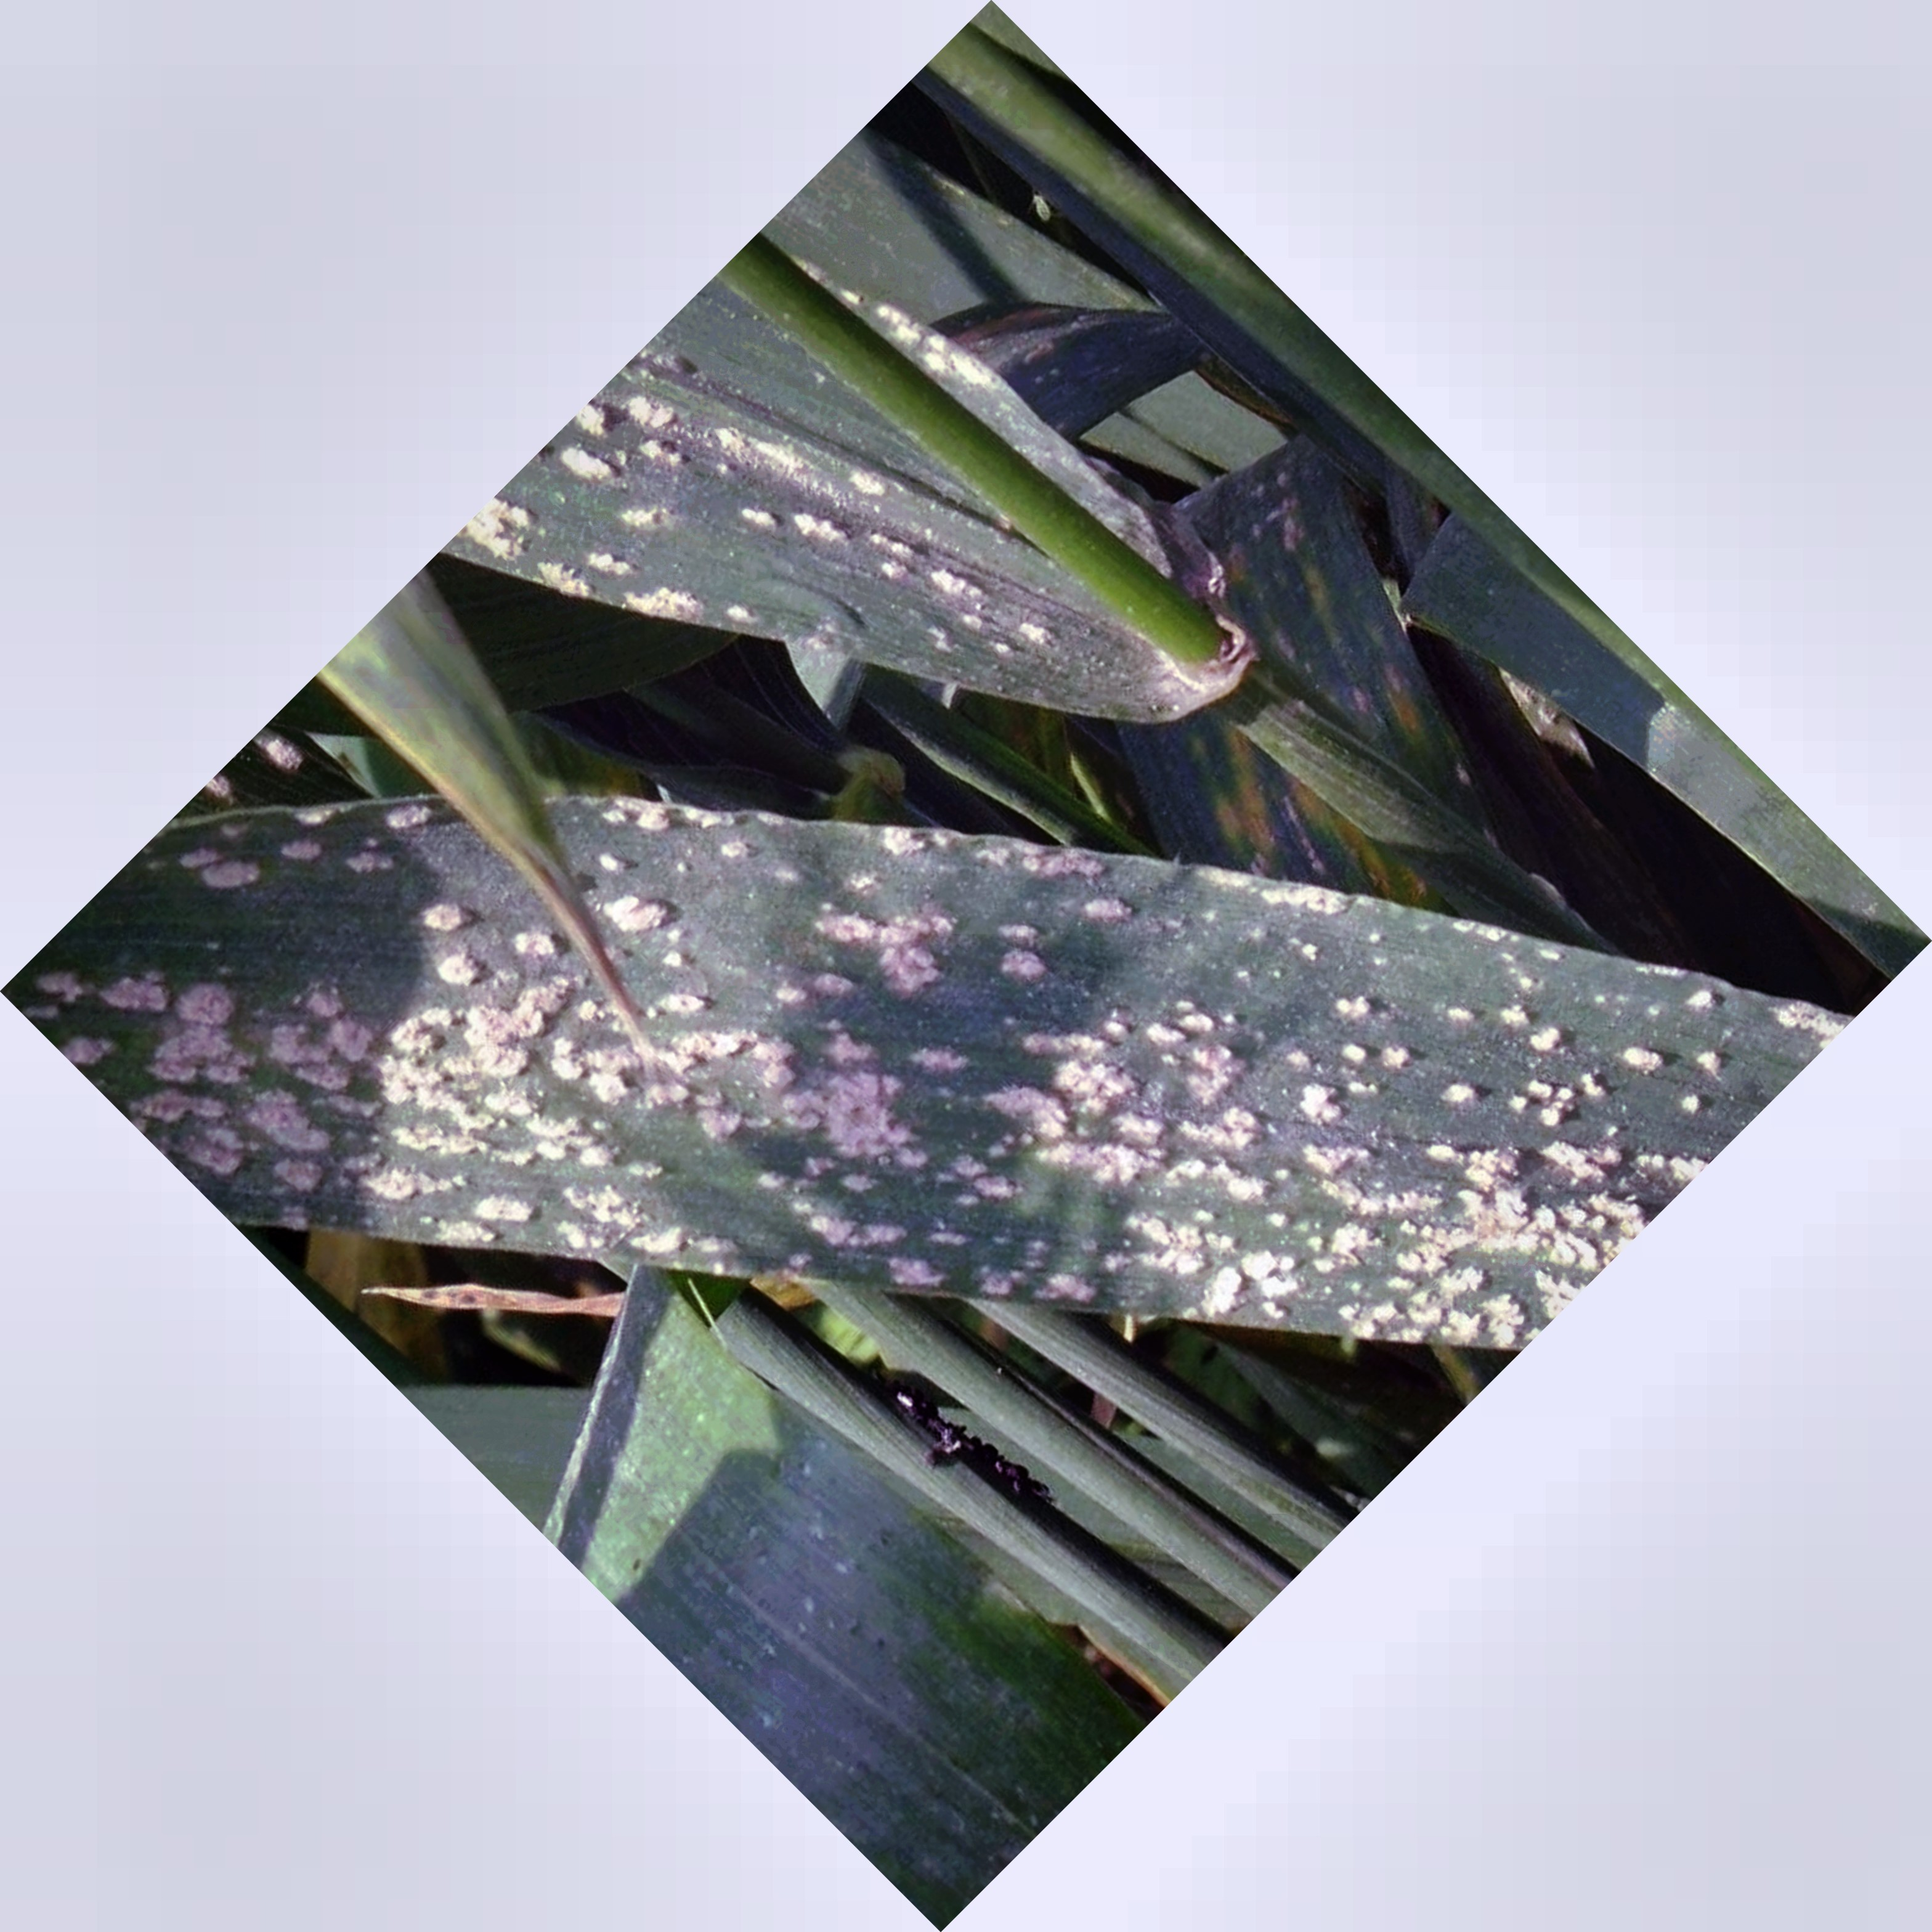Powdery Mildew: (405, 840, 1560, 1338)
